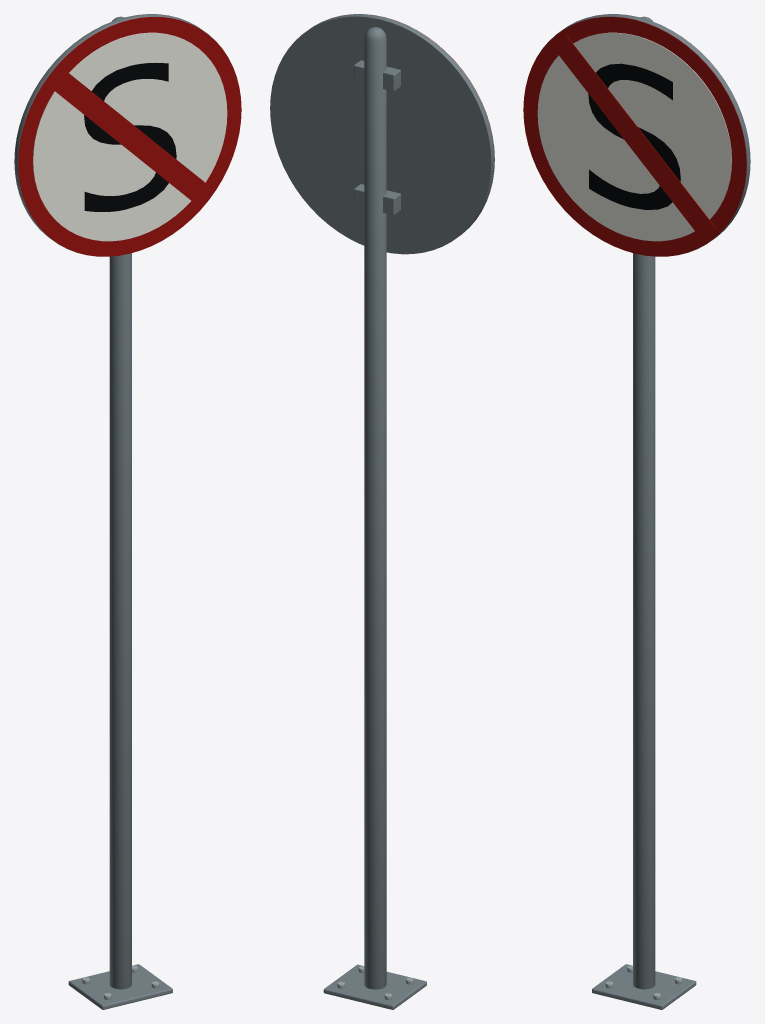
The model's file is OAR_Rambu_Dilarang_Berhenti.fbx.
3 renders of one model, left to right at view 1: azimuth 30°, elevation 25°; view 2: azimuth 150°, elevation 25°; view 3: azimuth 330°, elevation 25°, orthographic.
Parts seen in each view (by area): view 1: Body; view 2: Body; view 3: Body.
Part boxes in pixels (left/top/right/bottom): Body: left=14, top=14, right=241, bottom=1009; Body: left=270, top=14, right=494, bottom=1009; Body: left=523, top=14, right=750, bottom=1009.
Size of the model in its own units: 0.6 by 2.5 by 0.16.
